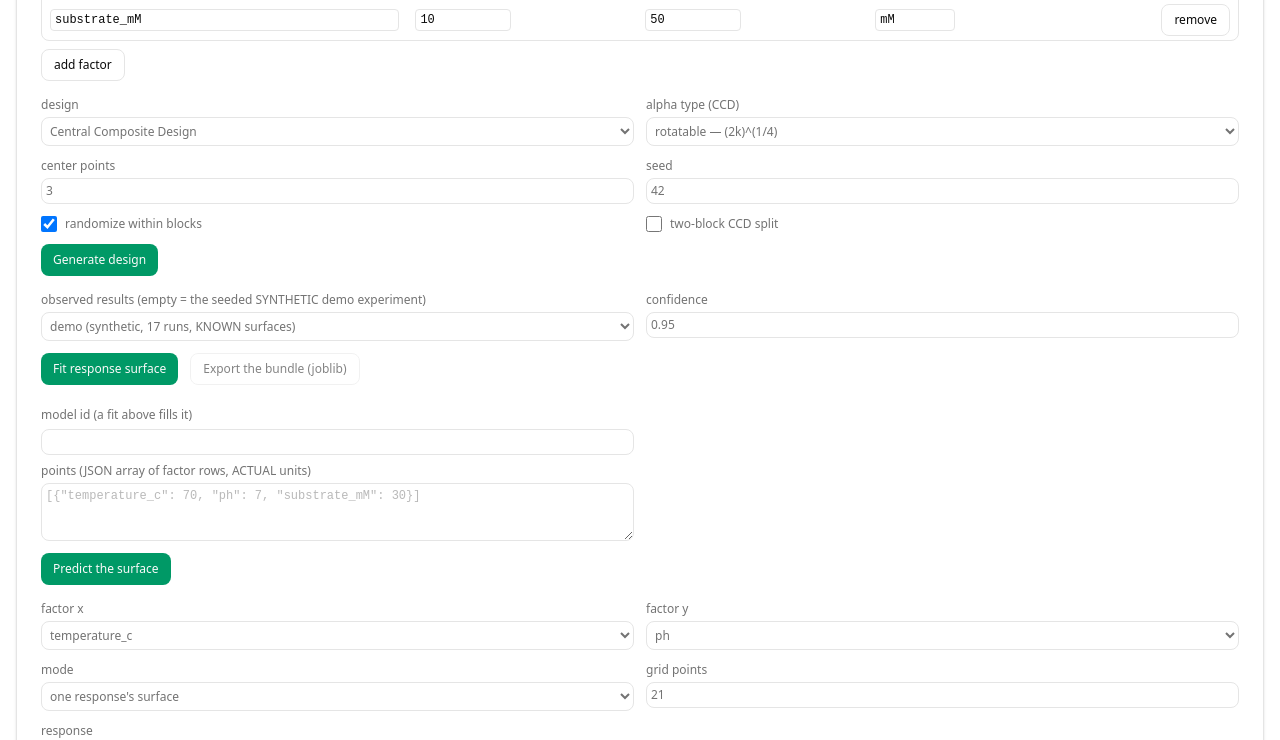
the Experimental Design & Response Surface lane of the Machine Learning workspace › runs the demo fit round trip and renders the coefficient surface
(page scrolled)
Click the button "Fit response surface" at x=110, y=369, box [41,353,178,385]
(page scrolled)
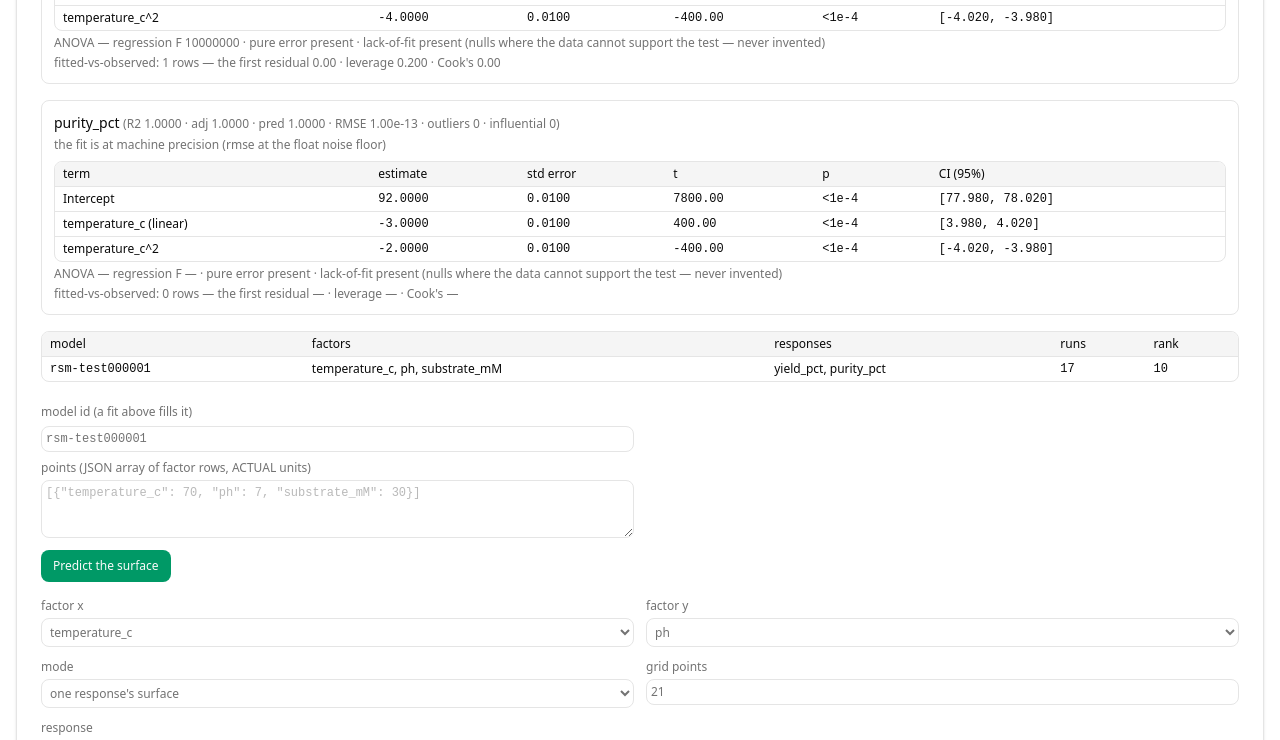
expect the text "rsm-test000001" is shown: met, box [42,356,304,381]
